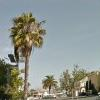Palm tree: (6, 9, 51, 89)
